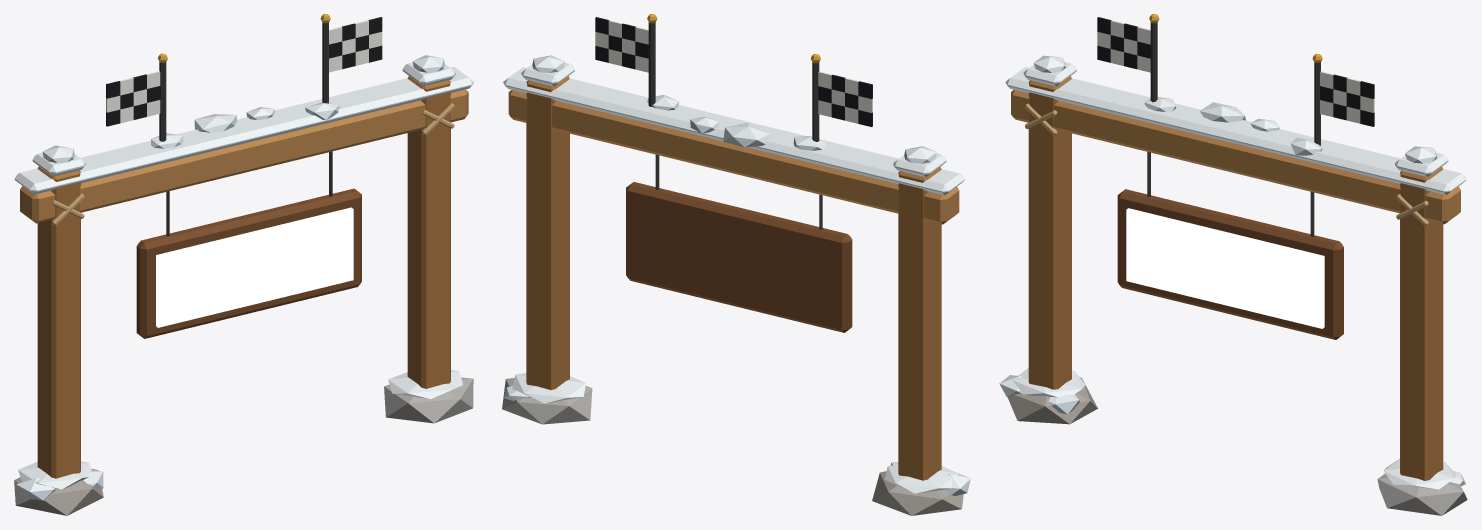
The model's file is finish_timer.glb.
The picture shows the model from 3 angles, left to right: view 1: azimuth 30°, elevation 25°; view 2: azimuth 150°, elevation 25°; view 3: azimuth 330°, elevation 25°; orthographic projection.
Visible parts, largest first — view 1: finish_timer, part_flag_l, part_flag_r; view 2: finish_timer, part_flag_l, part_flag_r; view 3: finish_timer, part_flag_r, part_flag_l.
Boxes of the visible parts, x1=… form: finish_timer: x1=14, y1=14, x2=473, y2=515; part_flag_l: x1=106, y1=71, x2=160, y2=126; part_flag_r: x1=329, y1=17, x2=382, y2=72; finish_timer: x1=502, y1=14, x2=970, y2=515; part_flag_l: x1=818, y1=71, x2=872, y2=126; part_flag_r: x1=595, y1=17, x2=648, y2=72; finish_timer: x1=999, y1=14, x2=1467, y2=515; part_flag_r: x1=1320, y1=71, x2=1374, y2=126; part_flag_l: x1=1097, y1=17, x2=1150, y2=72.
Size of the model in its own units: 3.08 by 2.78 by 0.4706.
